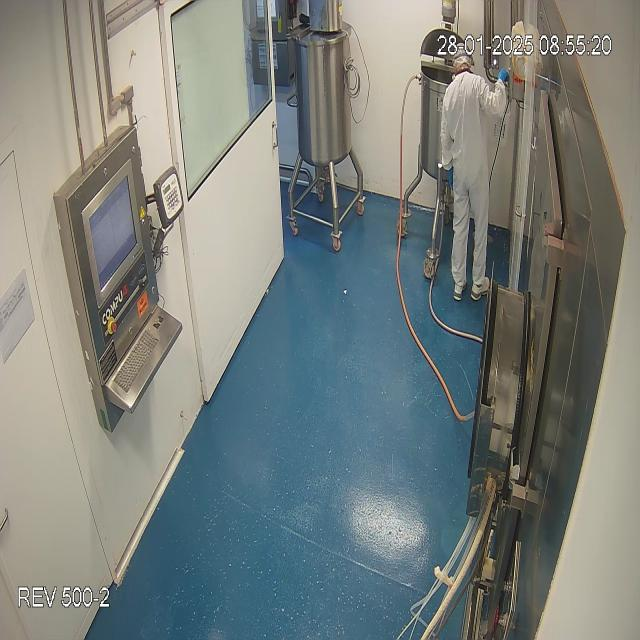bota: (446, 268, 492, 304)
pessoa: (437, 47, 511, 306)
touca: (448, 40, 478, 76)
